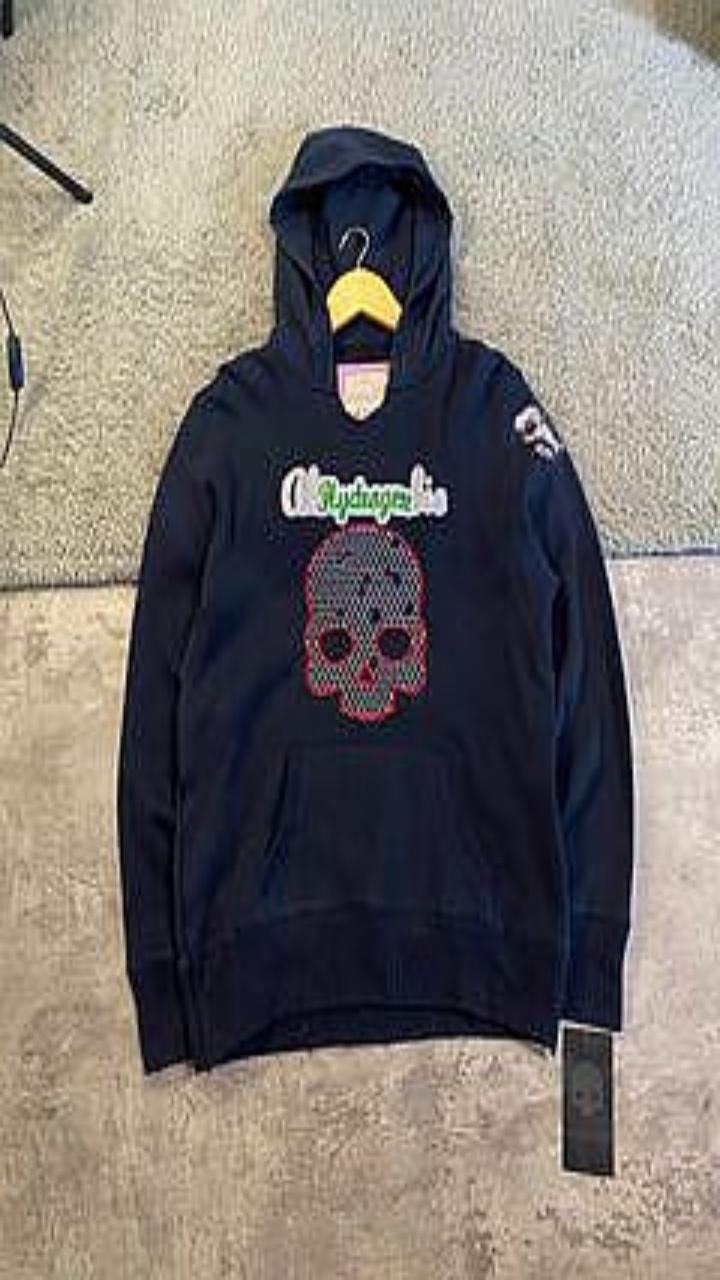Hoodie: (118, 126, 632, 1071)
